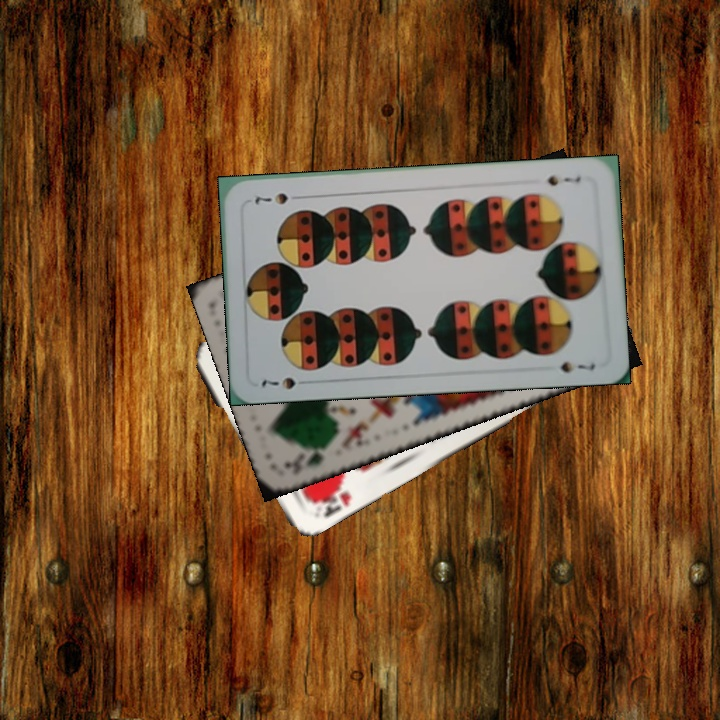GK: (280, 439, 334, 472)
HK: (307, 479, 354, 520)
S7: (257, 373, 313, 392), (543, 172, 584, 189)
